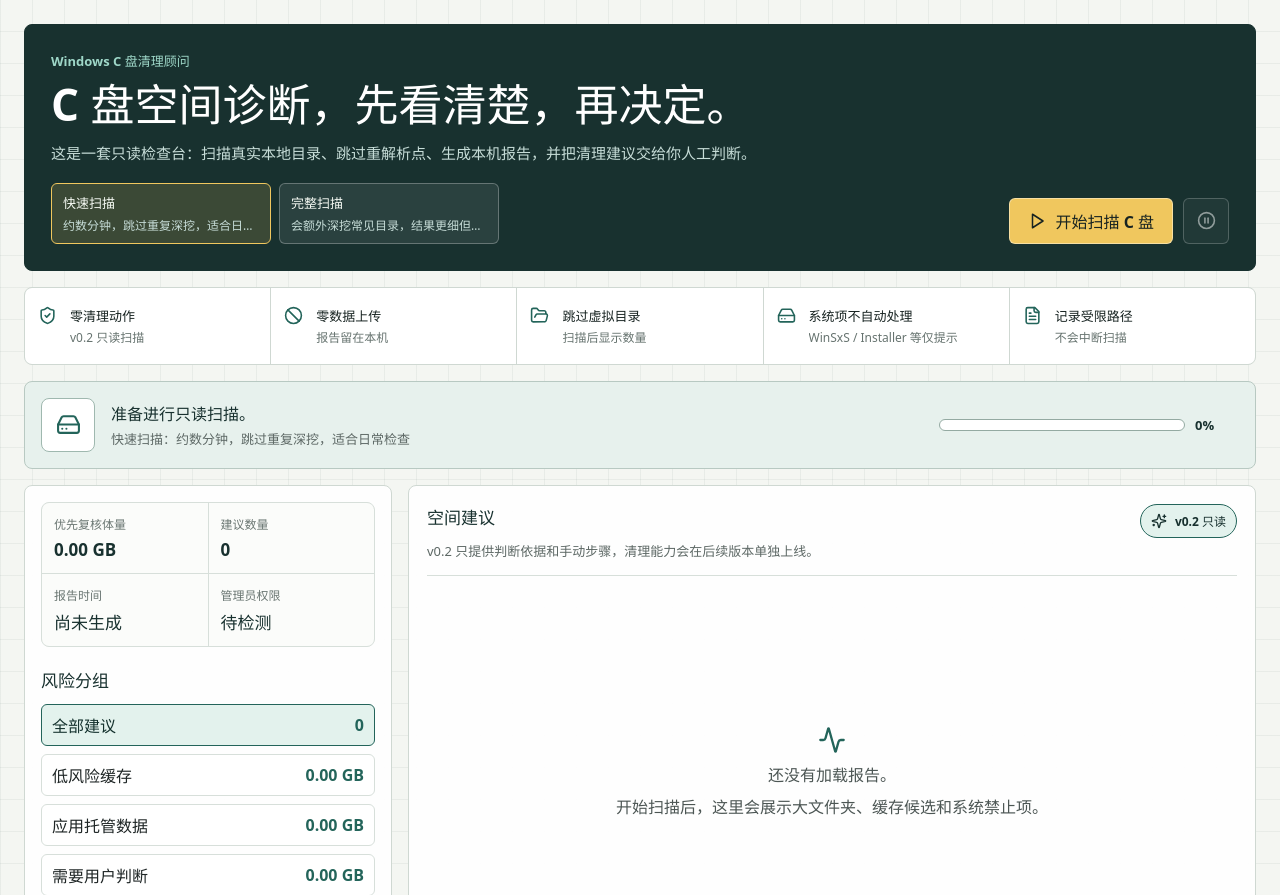
it: App › cancels an active scan through the narrow IPC wrapper
Click the button "开始扫描 C 盘" at [1091, 221], box [1010,198,1173,244]
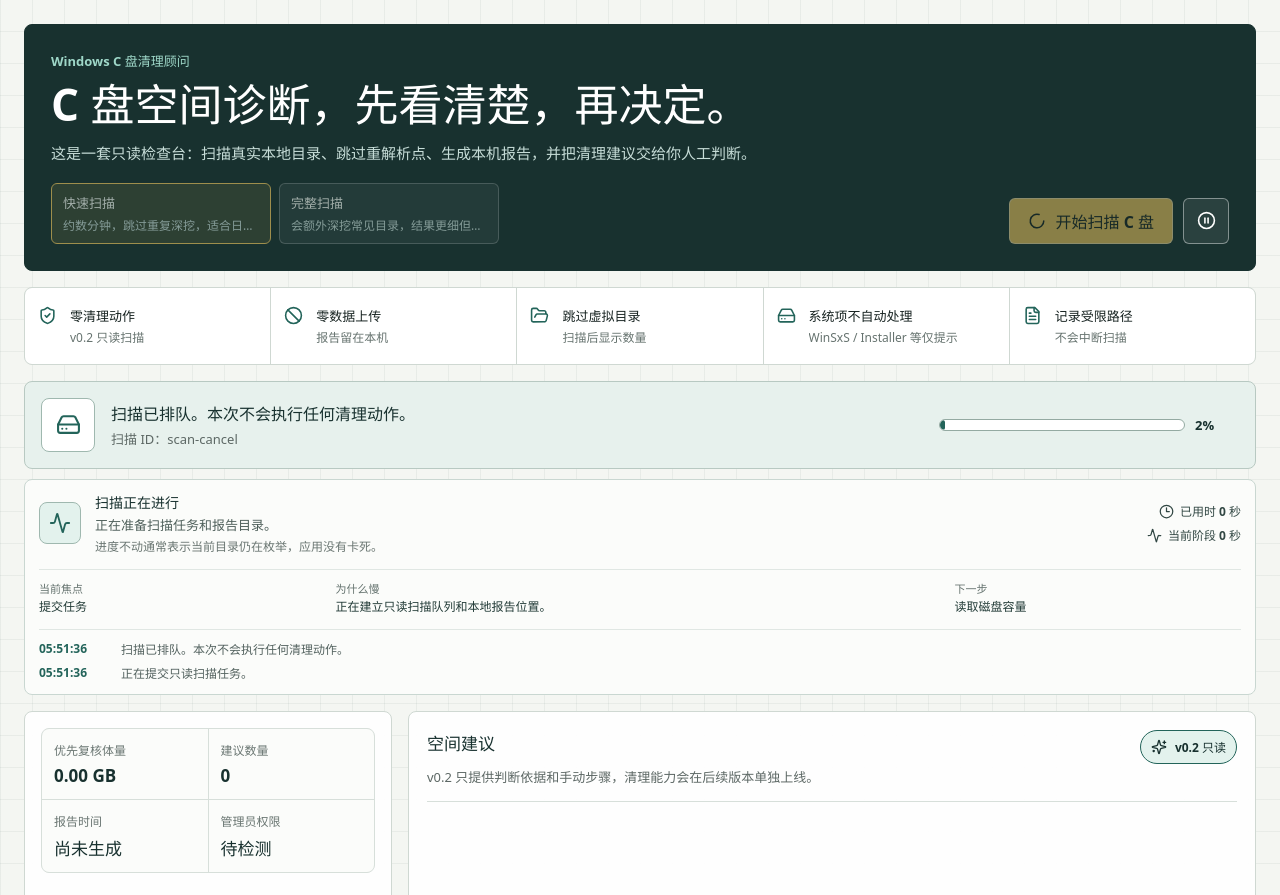
Click the button titled "取消扫描" at [1206, 221], box [1183,198,1229,244]
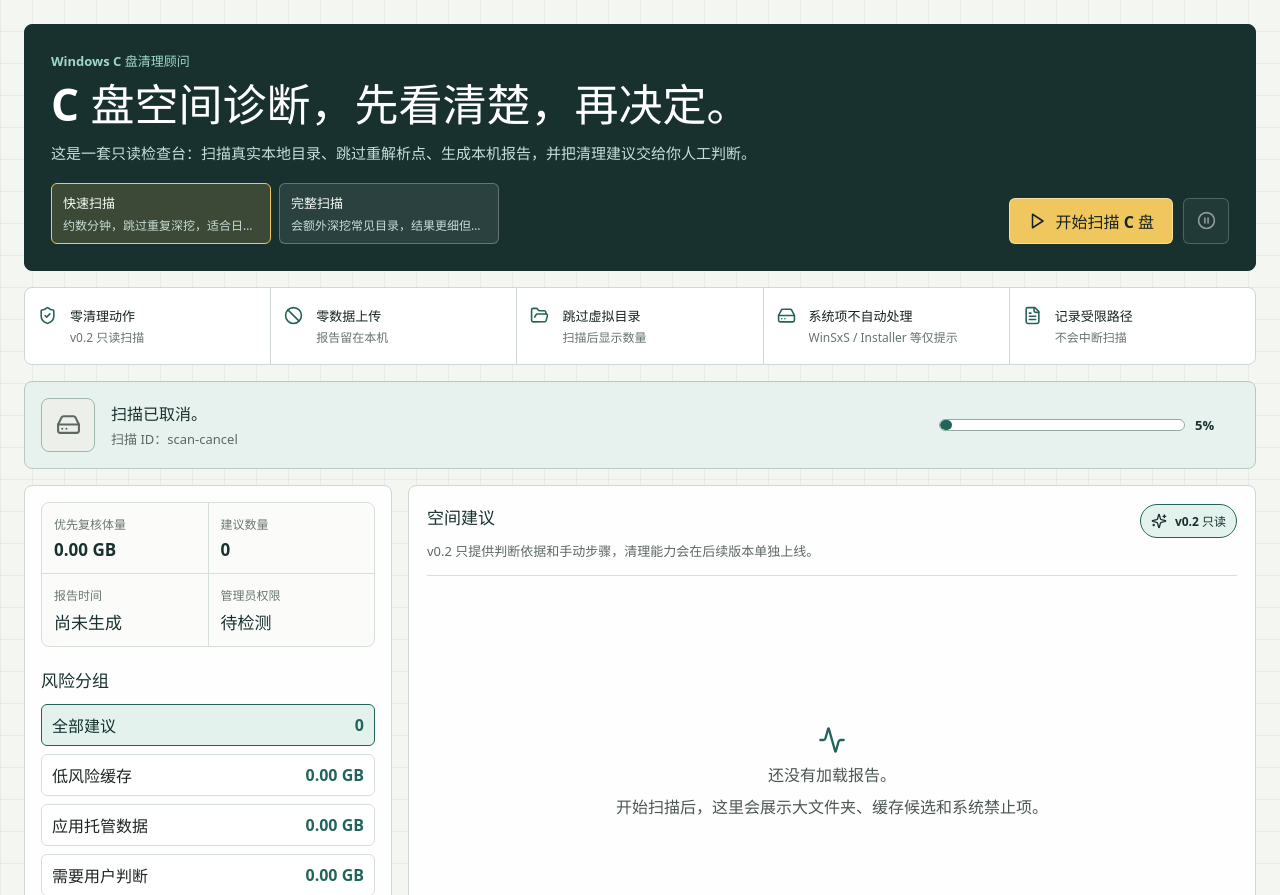
Result: the text "扫描已取消。" is shown at [111,403,207,425]
